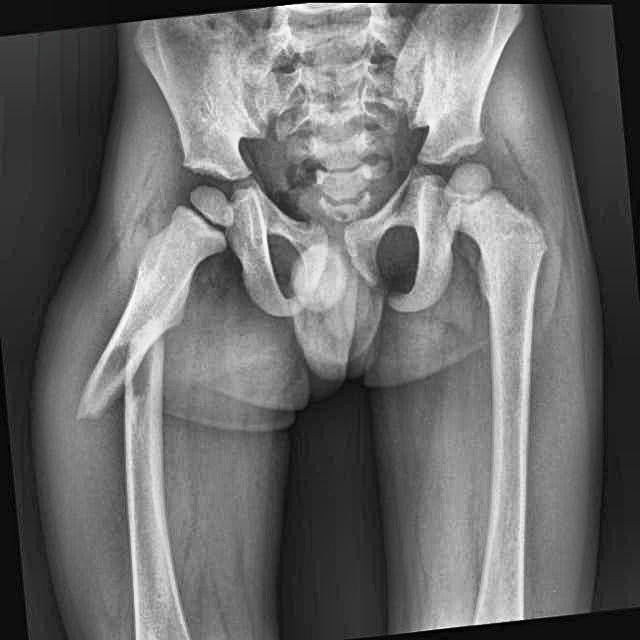Oblique: (70, 302, 190, 447)
